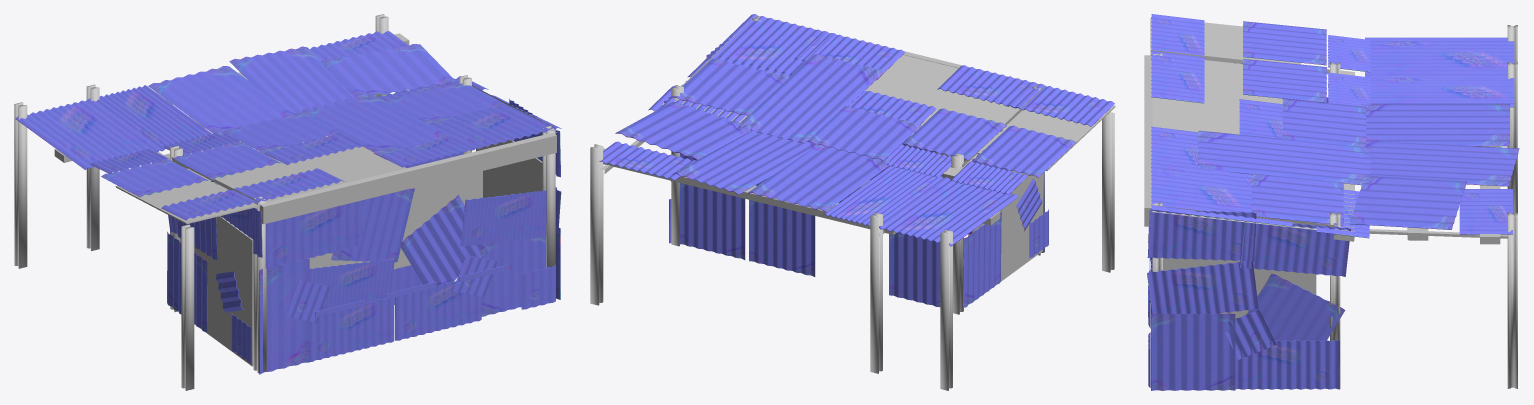
Rendered from SlumHouse3.fbx.
3 renders of one model, left to right at view 1: azimuth 30°, elevation 25°; view 2: azimuth 150°, elevation 25°; view 3: azimuth 270°, elevation 25°, orthographic. The views are drawn at different scales.
Visible parts, largest first — view 1: Support_5, Tin_sheet_4__14_, Tin_sheet_3__22_, Tin_sheet_4__15_, Tin_sheet_4__12_, Tin_sheet_4__16_, Tin_sheet_3__3_, Tin_sheet_1, Support_4__4_, Tin_sheet_4__2_, Tin_sheet_3__4_, Tin_sheet_3 (+36 smaller); view 2: Tin_sheet_4__12_, Tin_sheet_4__14_, Tin_sheet_3__22_, Tin_sheet_4__15_, Support_4__5_, Tin_sheet_4__16_, Tin_sheet_4__19_, Tin_sheet_3__13_, Tin_sheet_4, Tin_sheet_4__13_, Tin_sheet_4__11_, Tin_sheet_3__19_ (+24 smaller); view 3: Tin_sheet_4__12_, Tin_sheet_4__5_, Tin_sheet_4__14_, Tin_sheet_3__22_, Tin_sheet_4__15_, Tin_sheet_4__16_, Tin_sheet_3__5_, Tin_sheet_3__6_, Tin_sheet_3__8_, Tin_sheet_3__7_, Support_4__5_, Tin_sheet_3__19_ (+26 smaller).
Part boxes in pixels (x1,y1,x2,y2): Support_5: (259,132,556,224); Tin_sheet_4__14_: (148,66,289,135); Tin_sheet_3__22_: (15,98,162,169); Tin_sheet_4__15_: (229,46,355,115); Tin_sheet_4__12_: (302,93,451,155); Tin_sheet_4__16_: (321,44,456,97); Tin_sheet_3__3_: (265,200,362,268); Tin_sheet_1: (259,258,309,374); Support_4__4_: (180,216,253,366); Tin_sheet_4__2_: (400,194,490,285); Tin_sheet_3__4_: (460,190,546,246); Tin_sheet_3: (309,297,394,361); Tin_sheet_4__12_: (738,54,884,143); Tin_sheet_4__14_: (748,144,890,211); Tin_sheet_3__22_: (879,177,1018,246); Tin_sheet_4__15_: (673,128,818,194); Support_4__5_: (865,55,1019,137); Tin_sheet_4__16_: (615,102,751,160); Tin_sheet_4__19_: (749,200,815,276); Tin_sheet_3__13_: (713,14,837,74); Tin_sheet_4: (680,183,745,259); Tin_sheet_4__13_: (671,59,789,115); Tin_sheet_4__11_: (807,106,921,160); Tin_sheet_3__19_: (823,166,946,229); Tin_sheet_4__12_: (1198,130,1371,185); Tin_sheet_4__5_: (1151,313,1235,390); Tin_sheet_4__14_: (1360,104,1509,146); Tin_sheet_3__22_: (1365,37,1514,74); Tin_sheet_4__15_: (1363,141,1519,186); Tin_sheet_4__16_: (1350,176,1466,229); Tin_sheet_3__5_: (1147,261,1258,317); Tin_sheet_3__6_: (1235,340,1339,389); Tin_sheet_3__8_: (1147,209,1256,261); Tin_sheet_3__7_: (1239,221,1350,276); Support_4__5_: (1151,54,1282,134); Tin_sheet_3__19_: (1365,75,1514,107).
Bounding box in the file's own units: 265 × 115 × 211.
